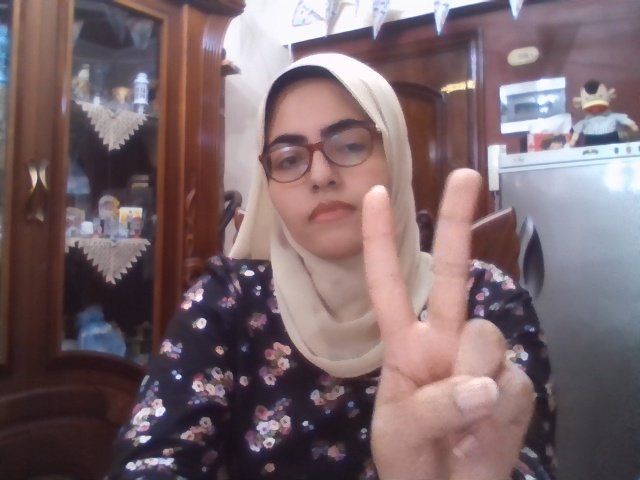V: (362, 168, 535, 480)
